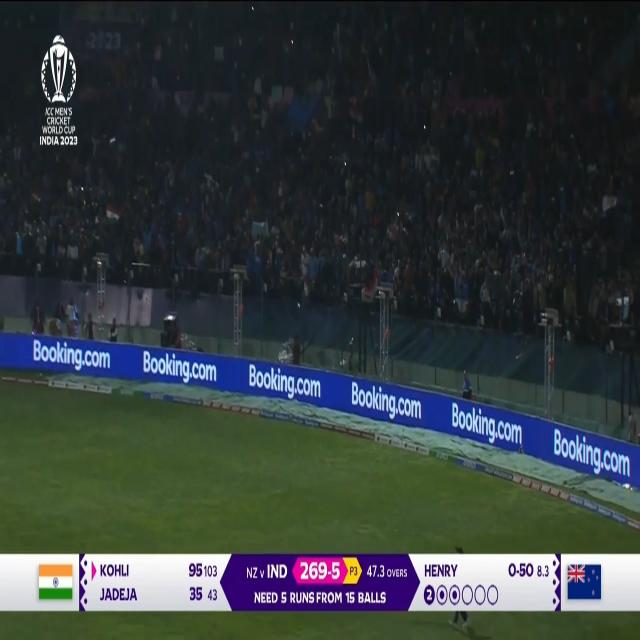ball: (293, 292, 305, 318)
